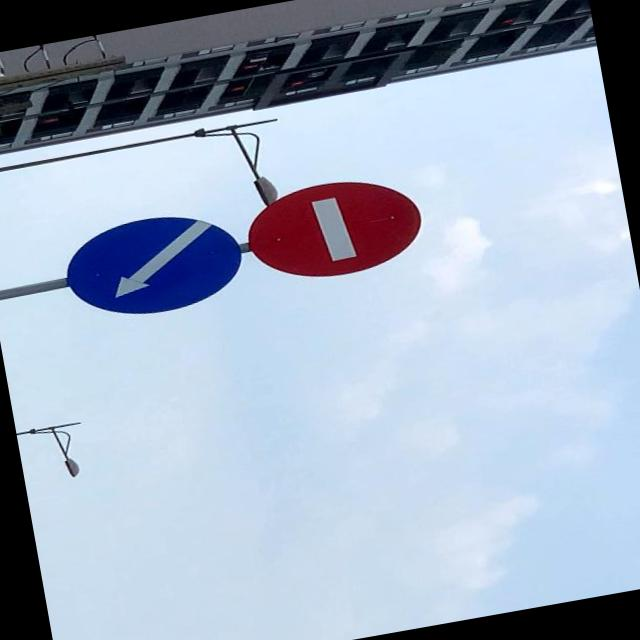P-102: (243, 168, 428, 290)
R-302a: (60, 203, 252, 327)
